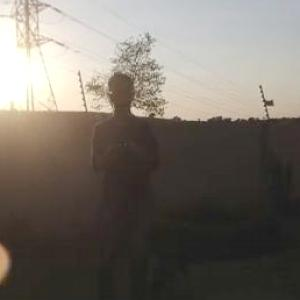follow: (90, 67, 165, 299)
